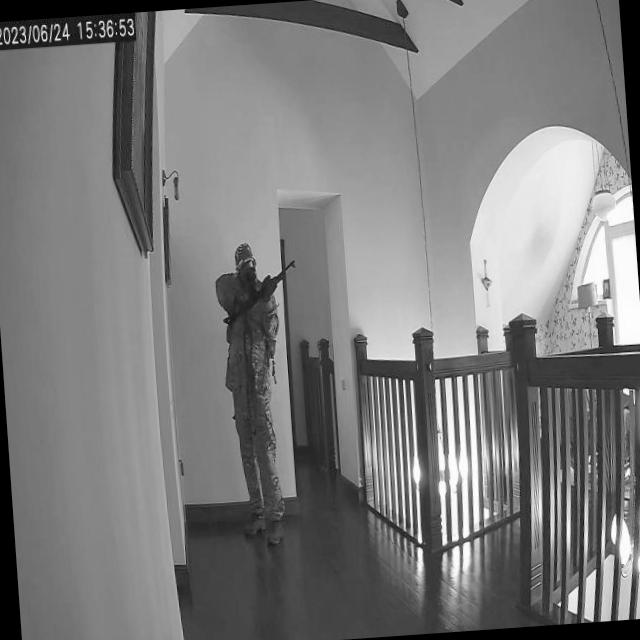gun: (218, 255, 300, 318)
person with a gun: (212, 238, 317, 550)
